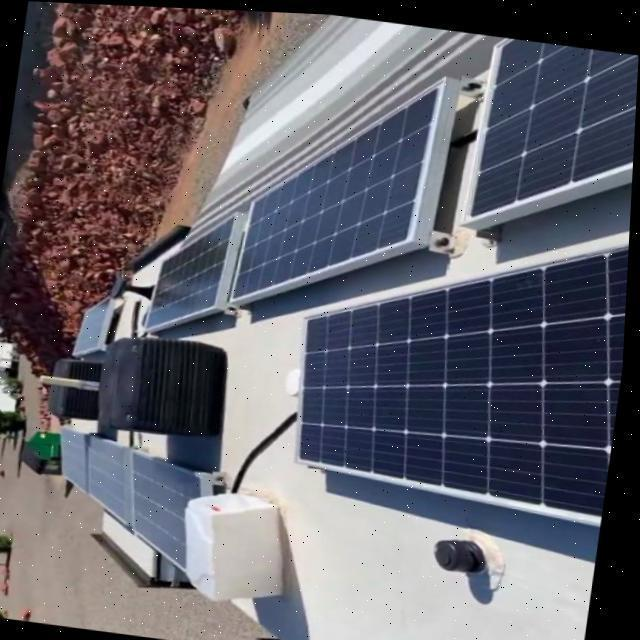Normal Solar Panel: (286, 168, 634, 520), (233, 49, 447, 323), (468, 30, 640, 238), (45, 425, 214, 575), (146, 202, 235, 337), (74, 285, 114, 354)
